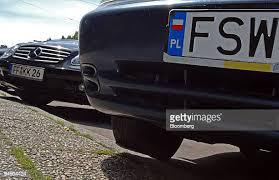2: (32, 68, 36, 77)
6: (36, 69, 40, 77)
F: (189, 15, 216, 54), (13, 65, 16, 73), (16, 66, 19, 74)
K: (27, 67, 31, 76), (23, 66, 26, 75)
S: (215, 16, 244, 57)
W: (248, 16, 278, 60)
